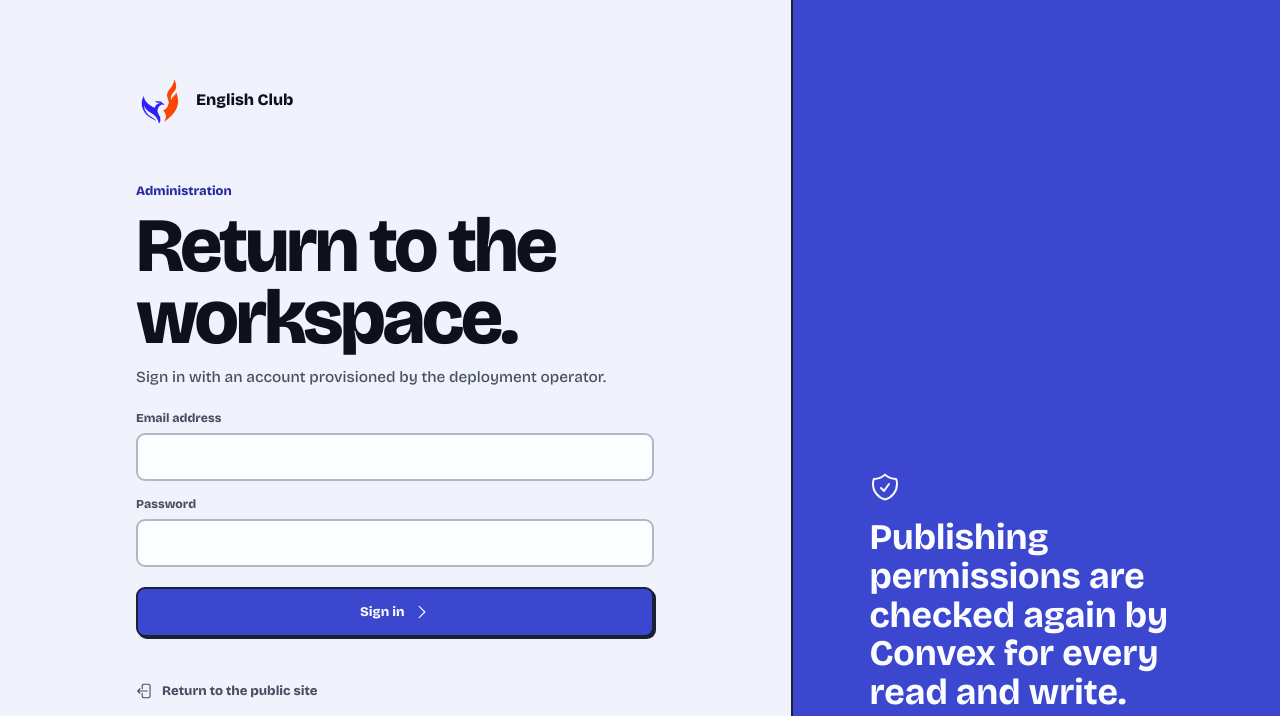
Test case: AdminSignIn › uses a calm retry message after the auth rate limit
Type "owner@example.com" into the field labelled "Email address" at (395, 457), box [136,433,654,481]
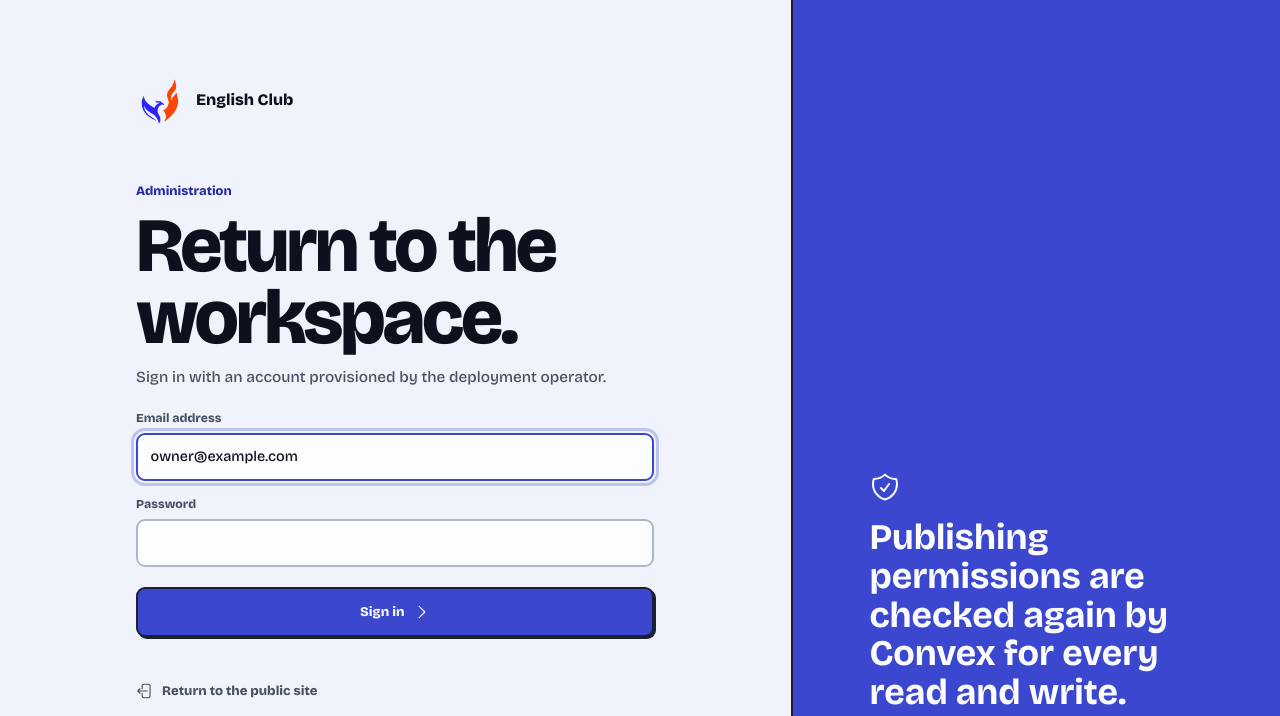
Type "StrongPassword12" into the password field labelled "Password" at (395, 543), box [136,519,654,567]
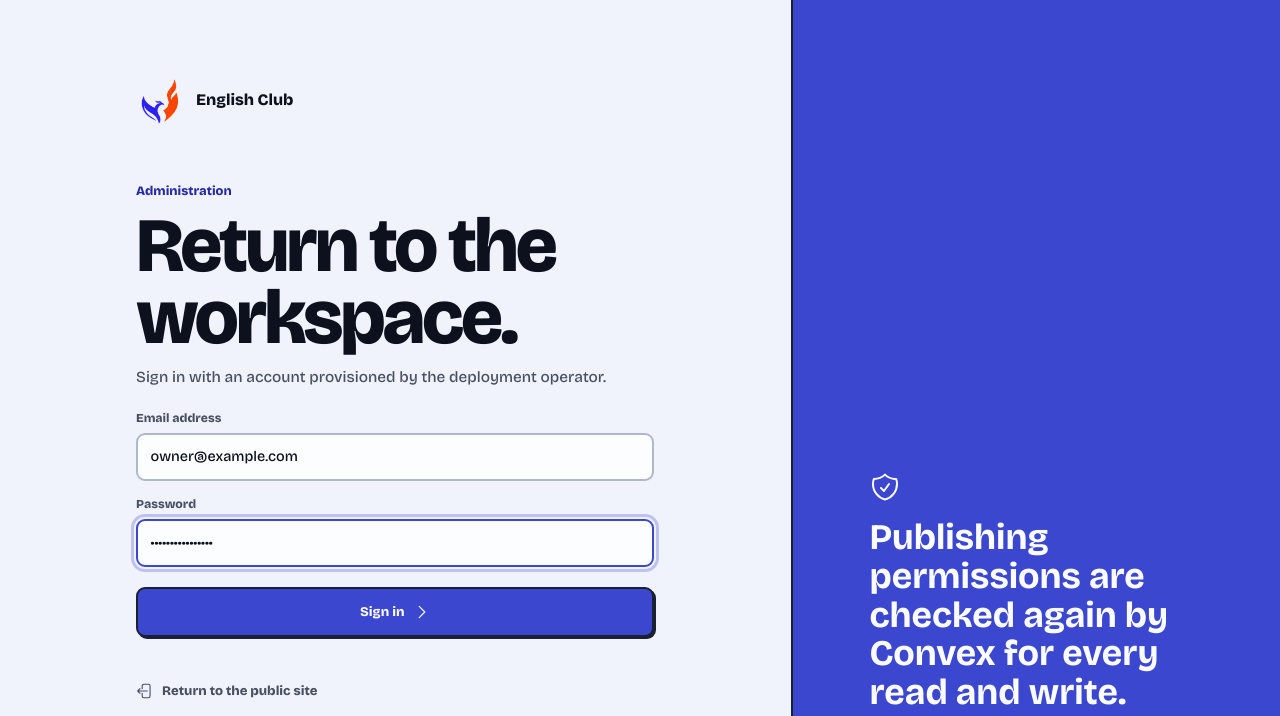
Click the button "Sign in" at (395, 612), box [136,587,654,637]
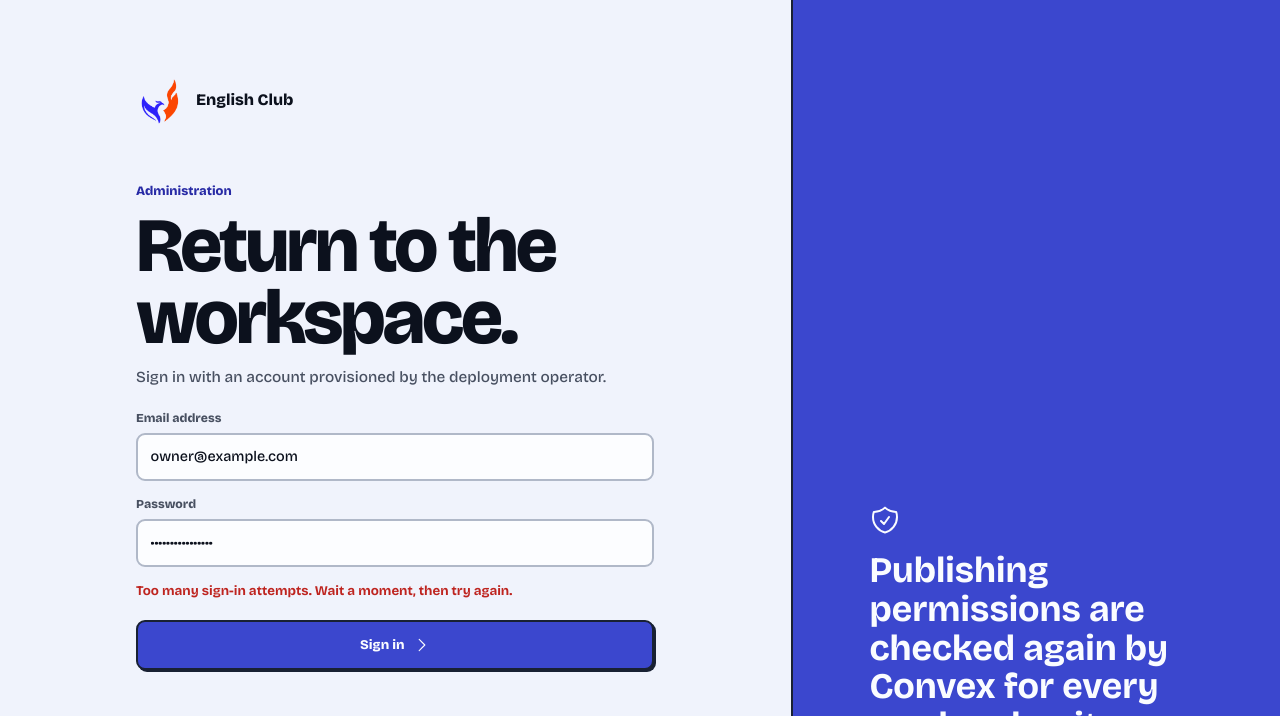
Check: the message does not show "TooManyFailedAttempts", box [136,583,512,599]
Check: the message reads "Too many sign-in attempts. Wait a moment, then try again.", box [136,583,512,599]
